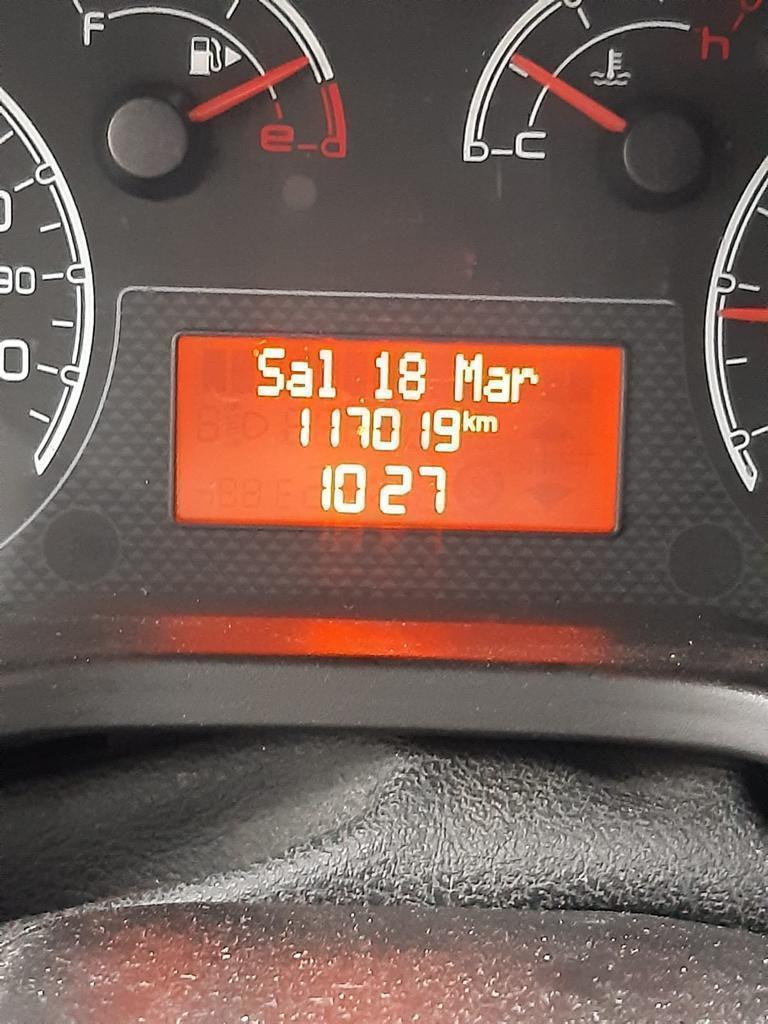0: (334, 462, 367, 515), (372, 406, 401, 451)
1: (374, 349, 393, 401), (297, 404, 312, 450), (320, 461, 332, 513), (328, 405, 342, 449), (419, 408, 431, 453)
2: (378, 462, 413, 516)
7: (418, 464, 448, 515), (345, 404, 371, 448)
8: (398, 350, 426, 402)
9: (433, 407, 460, 453)
X: (256, 346, 285, 397), (453, 350, 481, 402), (316, 346, 339, 399), (286, 357, 314, 398), (511, 364, 540, 403), (482, 364, 510, 403), (476, 413, 498, 432), (462, 406, 475, 432)
odometer: (167, 320, 636, 541)
